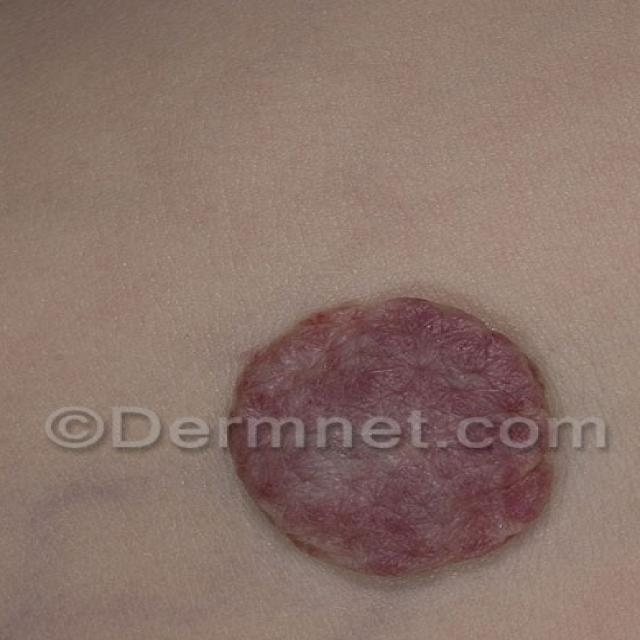Vascular Tumors: (193, 184, 593, 636)
